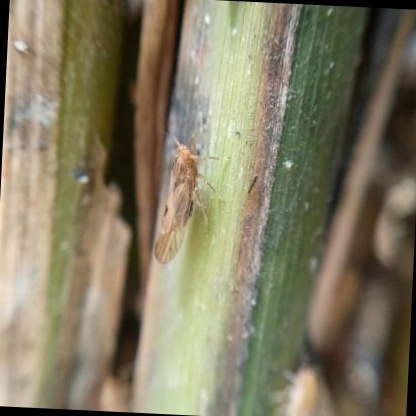Brown_hopper: (132, 121, 233, 279)
